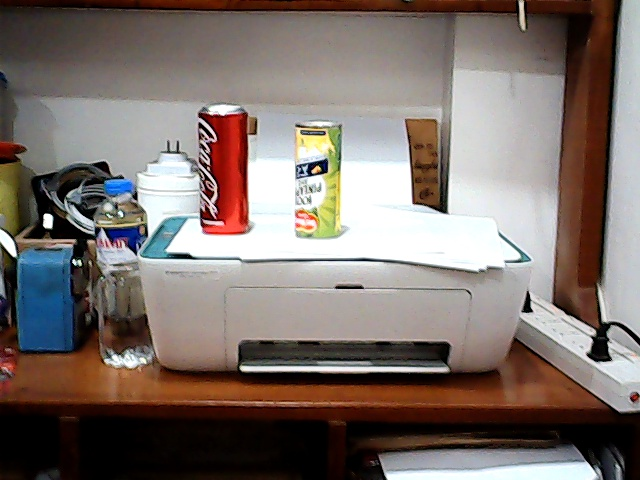Cola: (194, 99, 251, 234)
Pine Juice: (289, 118, 348, 242)
Summit Water: (91, 172, 149, 362)
